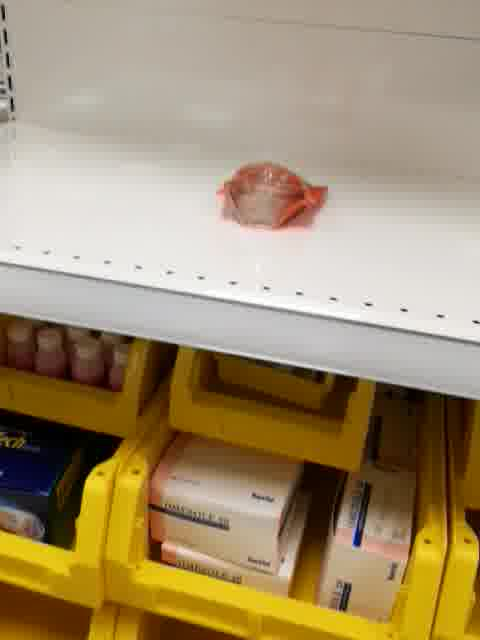whitechia: (215, 162, 330, 234)
